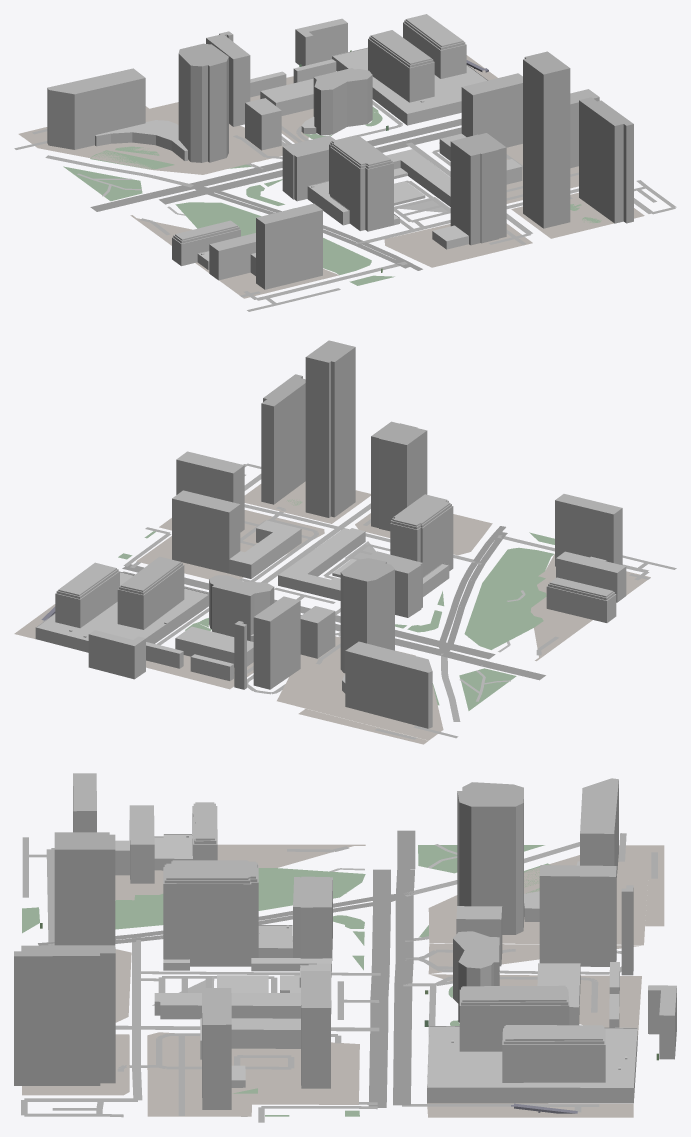
3 views of the same model, one above another, from view 1: azimuth 30°, elevation 25°; view 2: azimuth 150°, elevation 25°; view 3: azimuth 270°, elevation 25° (orthographic). The views are drawn at different scales.
Size of the model in its own units: 536 by 179 by 516.
